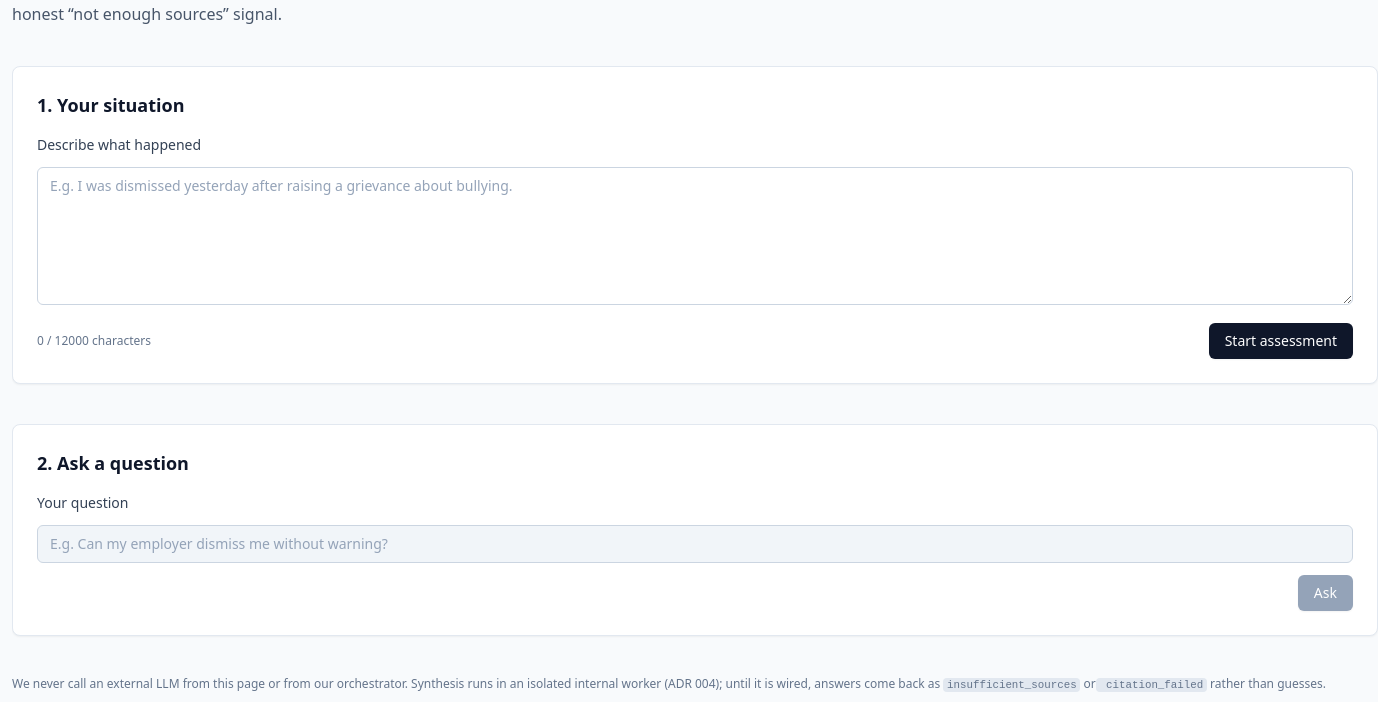
Test: /case/assessment page › never sends client-supplied identity fields to /api/orchestrator/legal/ask
Replace the text in the text box labelled "Describe what happened" with "I was dismissed without notice yesterday after raising a grievance about bullying at work last week.". click: (695, 236)
box: [37,167,1353,305]
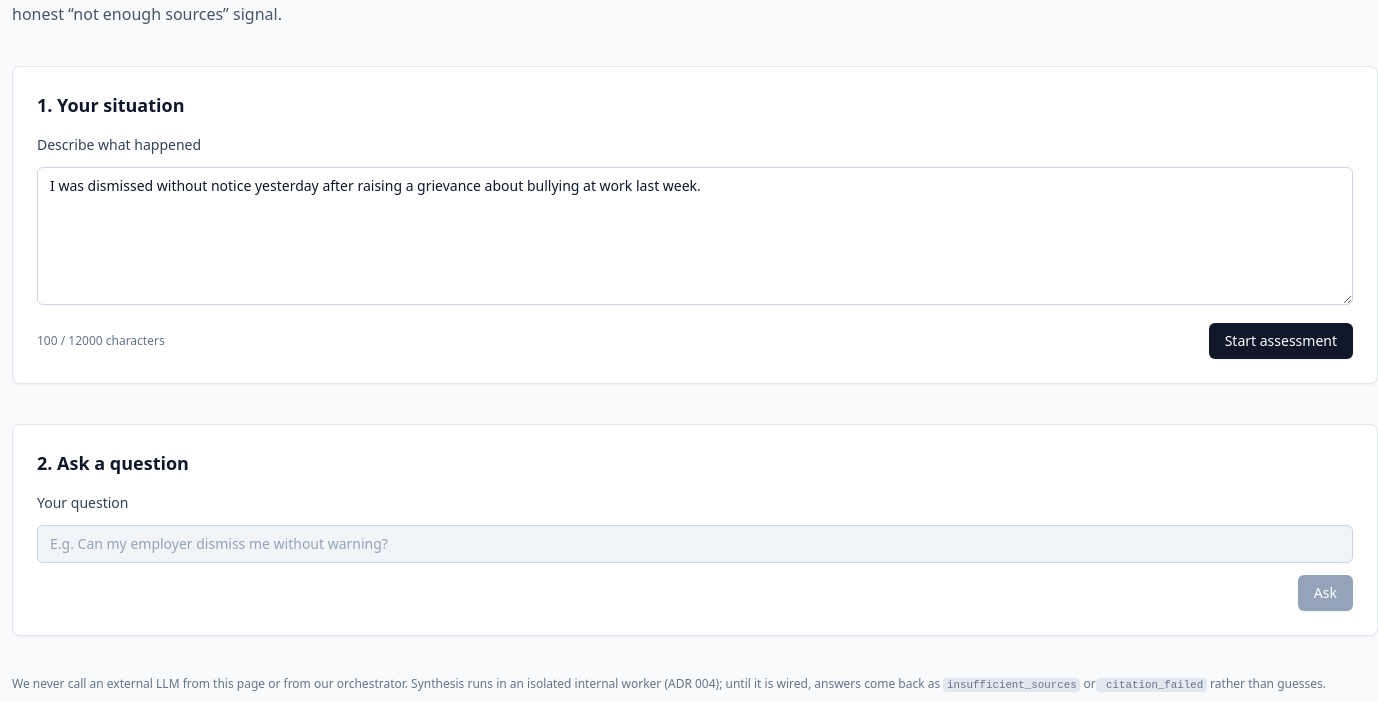
Submit the form labelled "Describe what happened", box [37,135,1353,359]
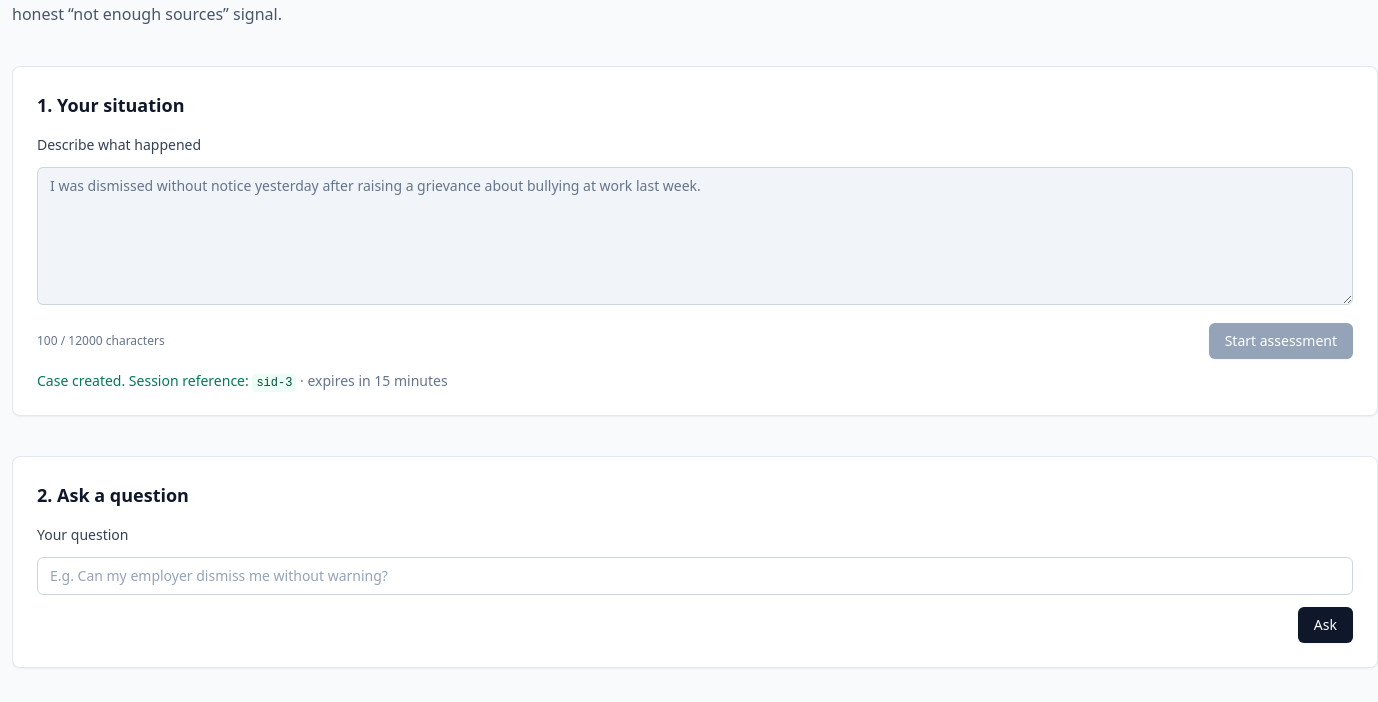
Check: the text "Case created" is shown, box [37,371,249,390]
Type "Test question?" into the field labelled "Your question". click: (695, 576)
box: [37,557,1353,595]
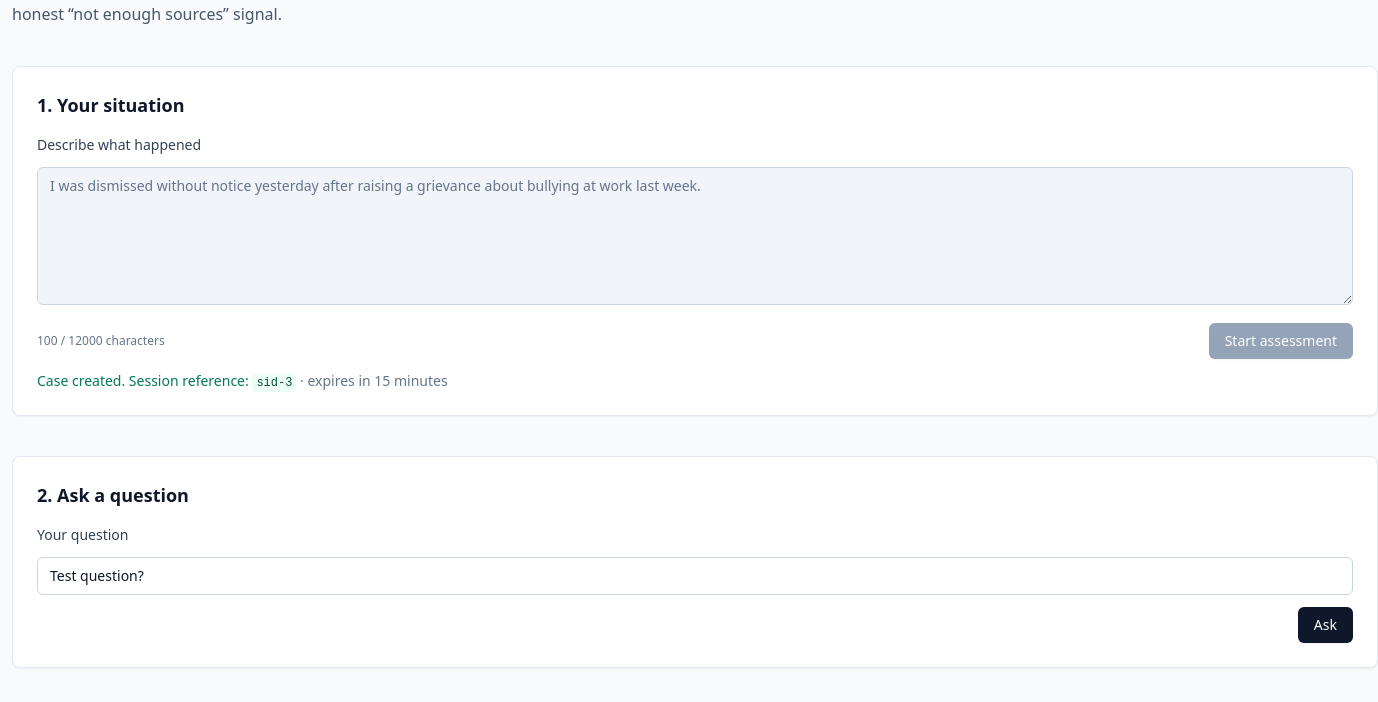
Submit the form labelled "Your question Ask", box [37,525,1353,643]
(page scrolled)
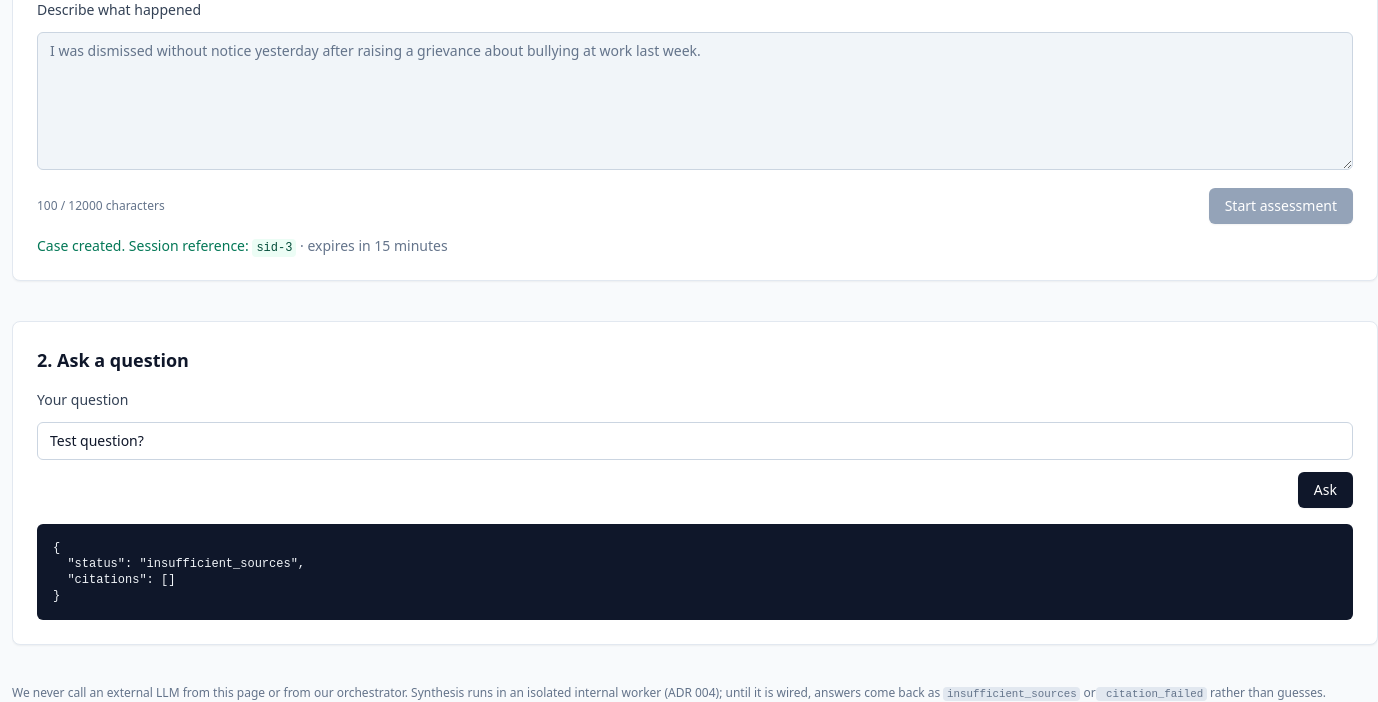
Check: the text "{ \"status\": \"insufficient_sources\", \"citations\": [] }" is shown, box [37,524,1353,620]
